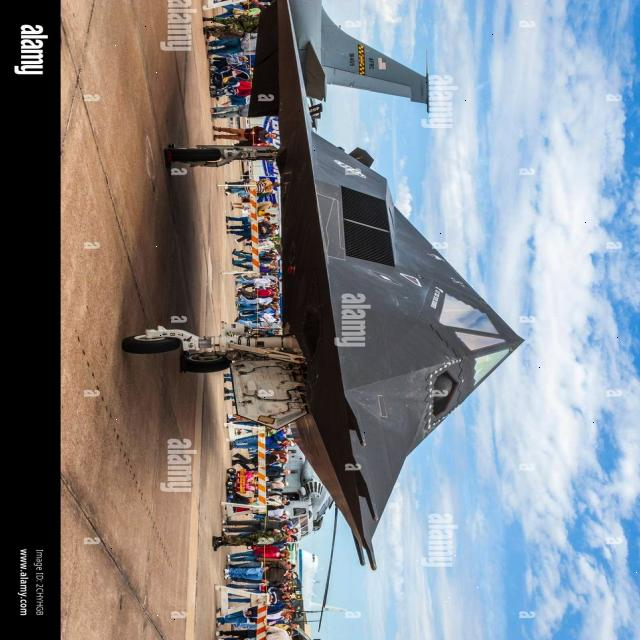F117: (87, 0, 530, 618)
